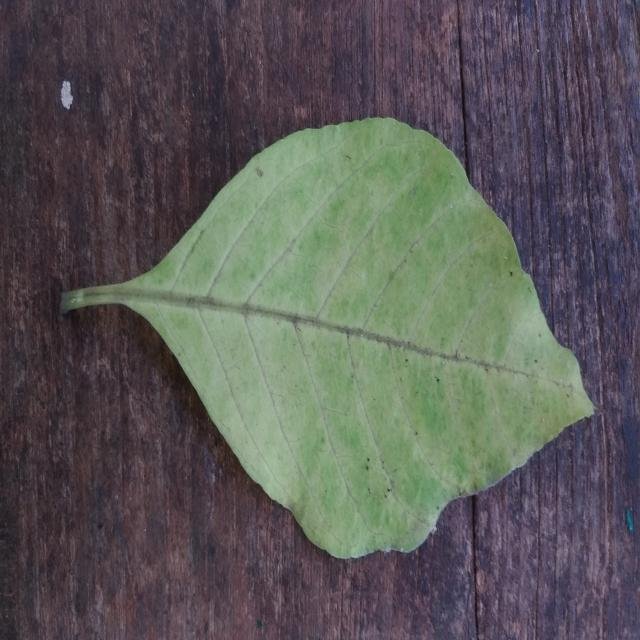malabar_nut: (61, 118, 594, 558)
